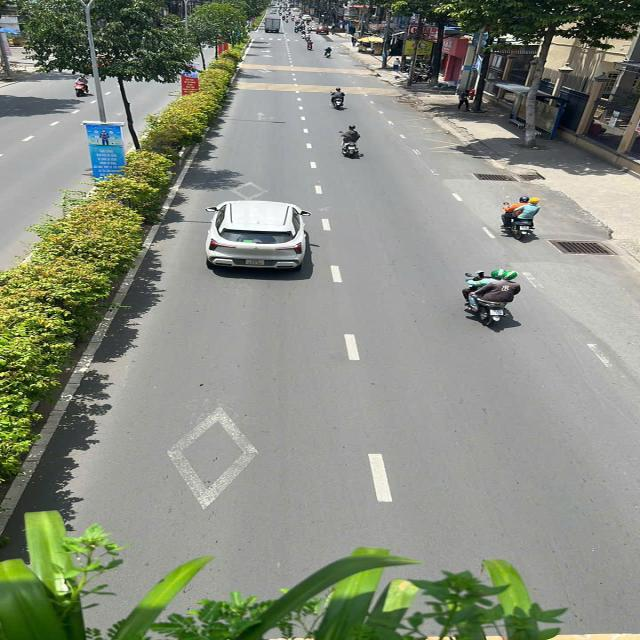ben: (261, 15, 285, 35)
car: (201, 200, 314, 272)
motobyte: (460, 268, 522, 330), (497, 194, 545, 243), (336, 122, 366, 158), (328, 86, 350, 112), (323, 44, 336, 60), (304, 38, 316, 52)
